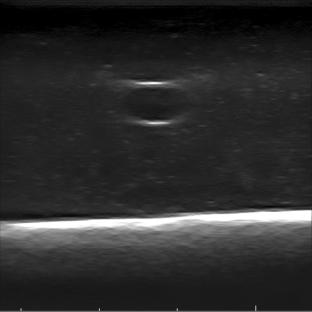vessel: (117, 80, 193, 126)
